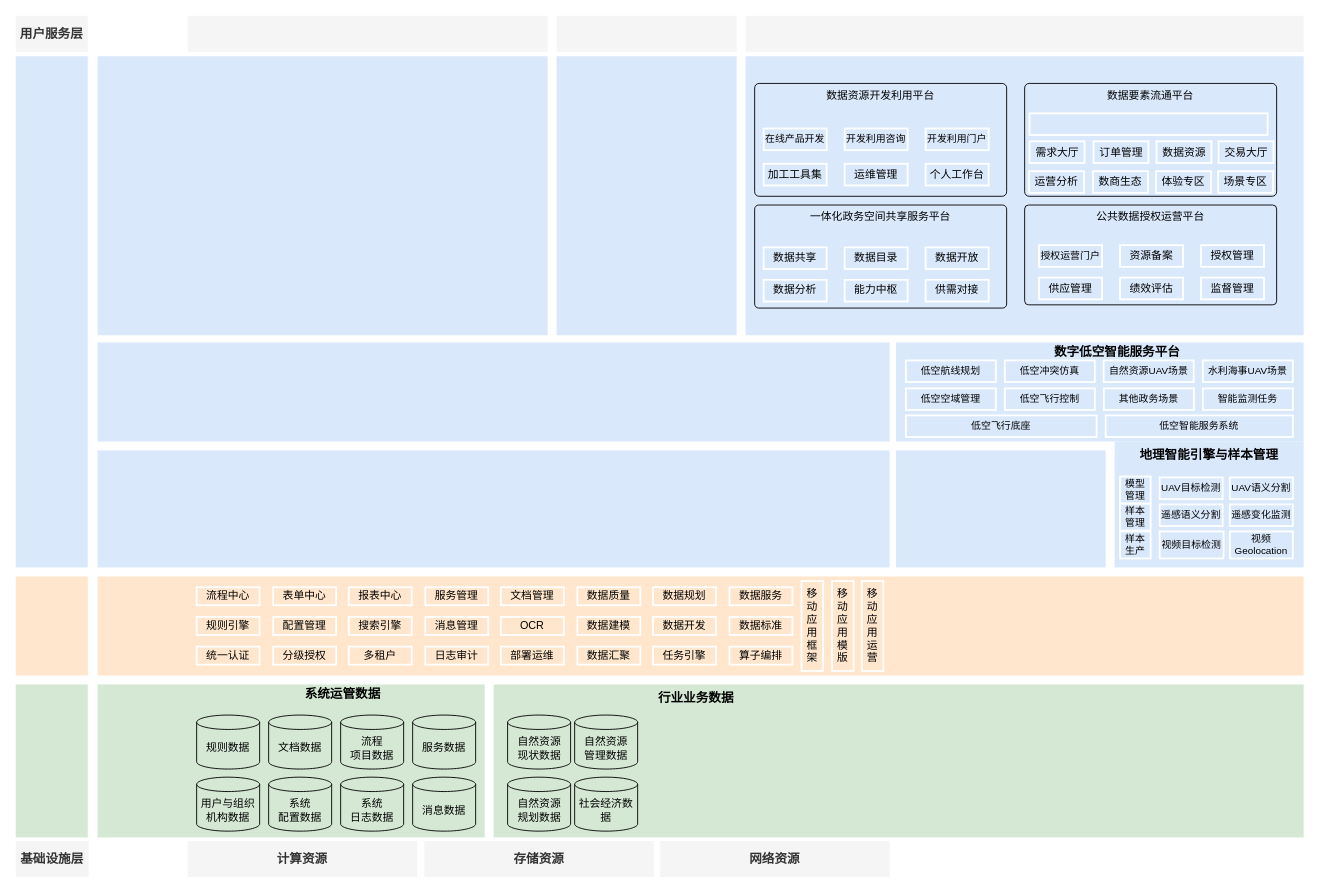
This 1319x892 diagram has some shape labels left out. Here are the shapes that lost their labels. From the top down, the centre of each, then its label:
At point 367,33: "自然资源用户".
At point 646,33: "住建用户".
At point 1024,33: "数据局用户".
At point 1148,123: "平台门户".
At point 51,311: "应用服务层".
At point 493,391: "时空底座".
At point 493,508: "数据治理平台".
At point 1000,508: "行业大模型运管平台".
At point 51,625: "平台支撑层".
At point 51,760: "数据资源层".
